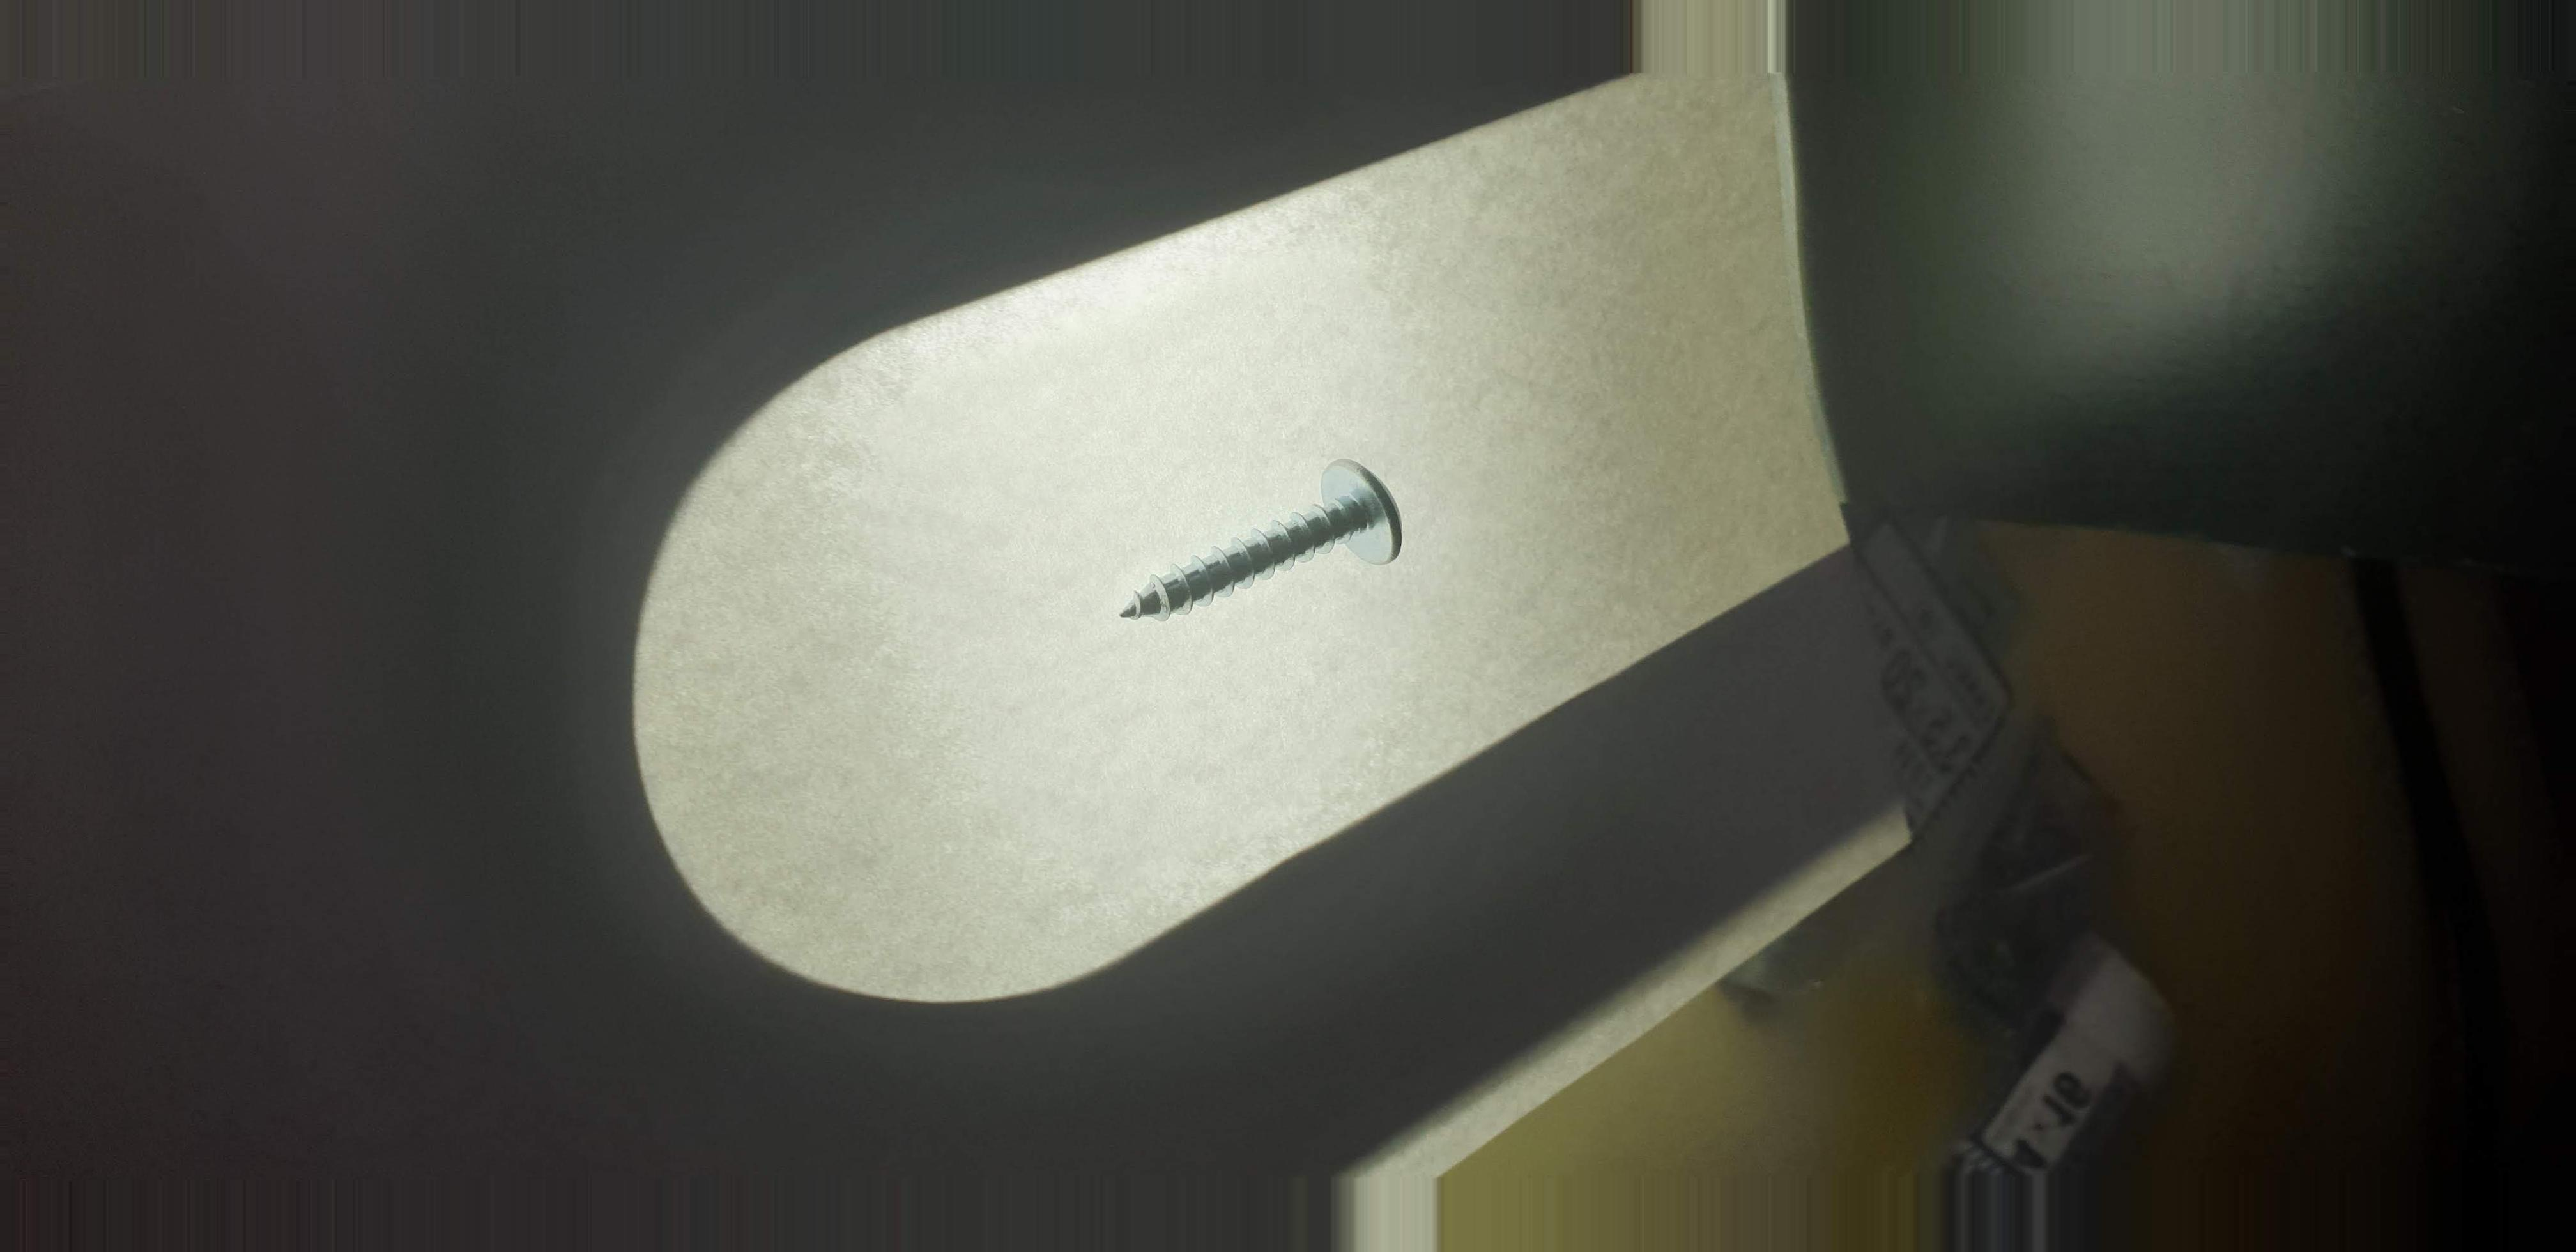S002: (1089, 426, 1434, 680)
